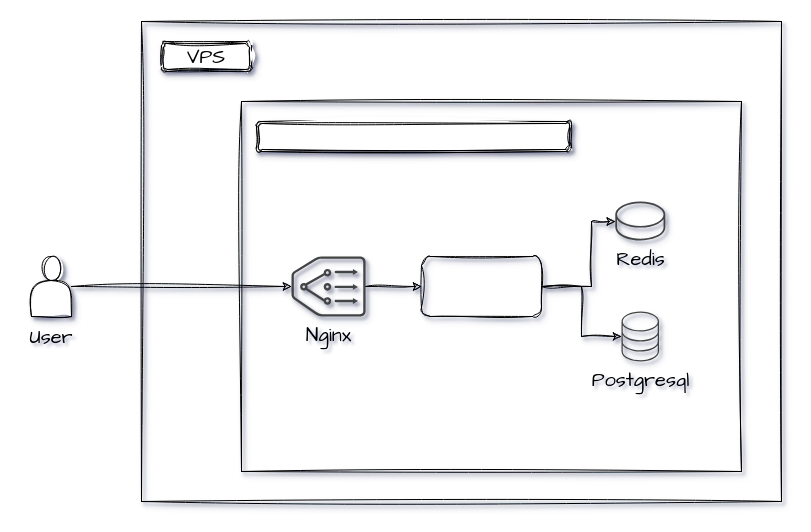
Image size: 811x532. Some labels were removed from this diagram. Each missing label, with the centre of its shape:
"Docker-compose" belongs at point 415,137.
"Golang app" belongs at point 482,288.
